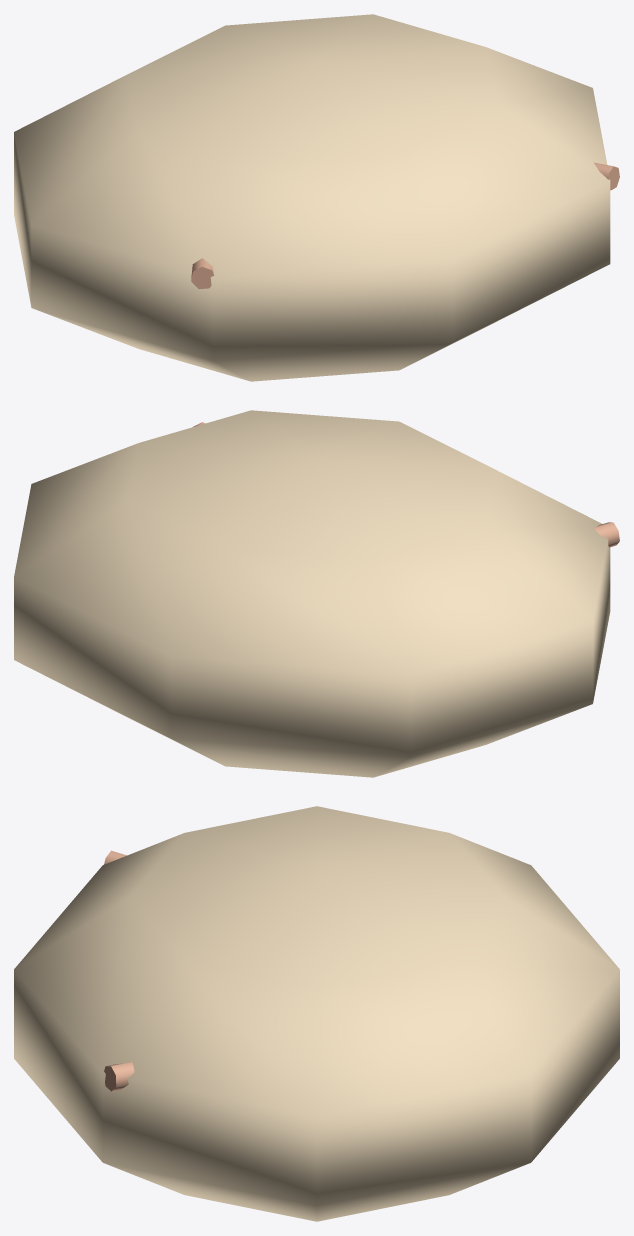
Rendered from ocean-scenery-39.glb.
The picture shows the model from 3 angles, top to bottom: view 1: azimuth 30°, elevation 25°; view 2: azimuth 150°, elevation 25°; view 3: azimuth 270°, elevation 25°; orthographic projection. The views are drawn at different scales.
Visible parts, largest first — view 1: Island beach shell; view 2: Island beach shell; view 3: Island beach shell.
Part boxes in pixels (left/top/right/bottom): Island beach shell: left=14, top=14, right=619, bottom=381; Island beach shell: left=14, top=410, right=619, bottom=777; Island beach shell: left=14, top=806, right=619, bottom=1221.
Size of the model in its own units: 0.4375 by 0.2 by 0.3804.
